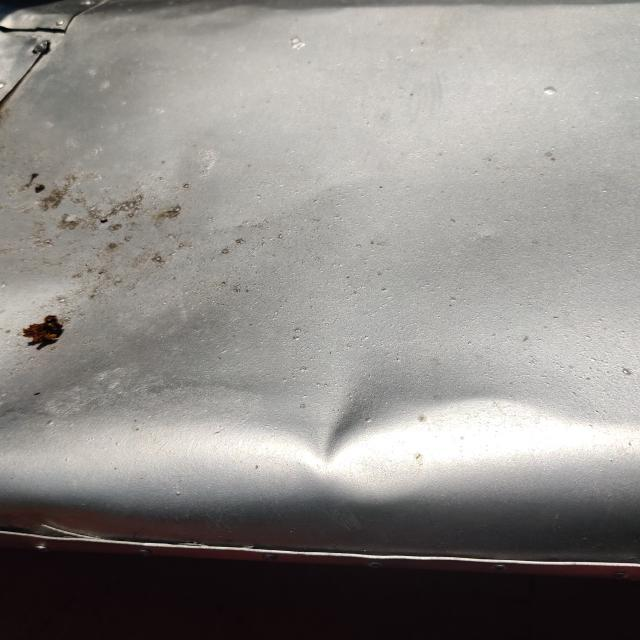dent: (267, 357, 406, 504)
